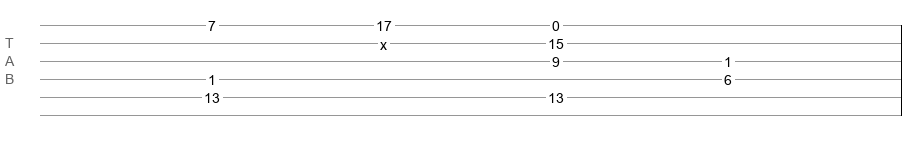0: (552, 18, 560, 28)
1: (208, 72, 216, 82), (724, 54, 732, 64)
13: (204, 90, 220, 100), (548, 90, 564, 100)
15: (548, 36, 564, 46)
17: (376, 18, 392, 28)
6: (724, 72, 732, 82)
7: (208, 18, 216, 28)
9: (552, 54, 560, 64)
x: (380, 37, 387, 45)
